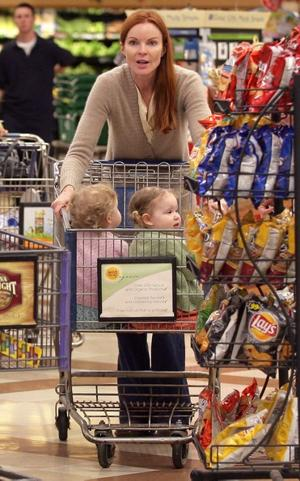person: (53, 10, 213, 442)
